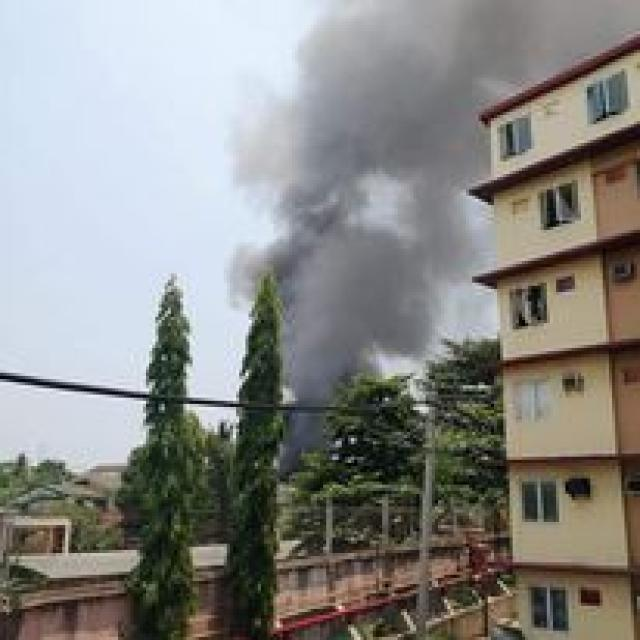Smoke: (270, 0, 572, 482)
